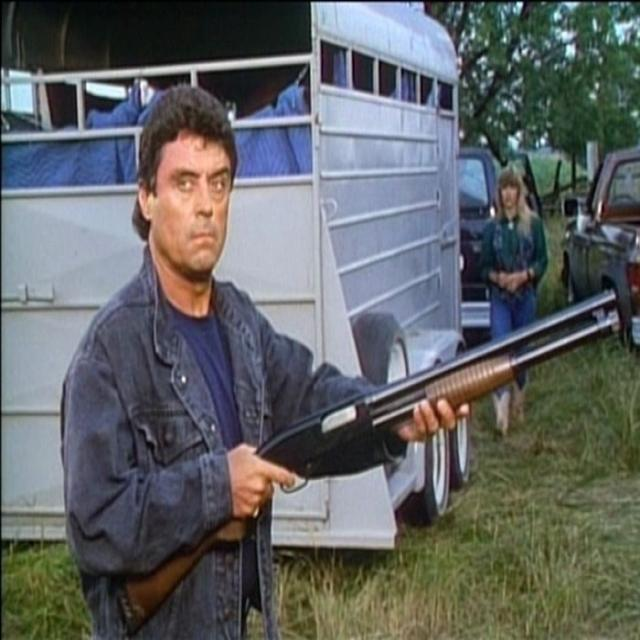gun-knife-thesis - v11 Yolov5 augmented: (103, 254, 620, 630)
